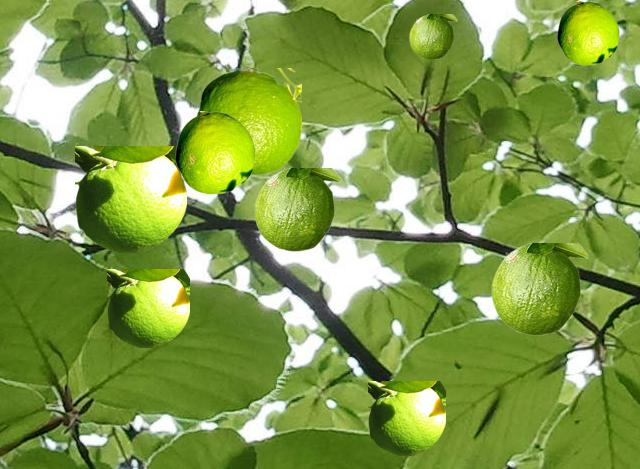dalandan: (75, 146, 185, 251), (196, 68, 300, 173), (491, 243, 587, 334), (254, 168, 340, 250), (175, 111, 254, 193), (107, 269, 188, 346), (368, 381, 444, 454), (557, 1, 618, 64), (409, 14, 456, 58)
